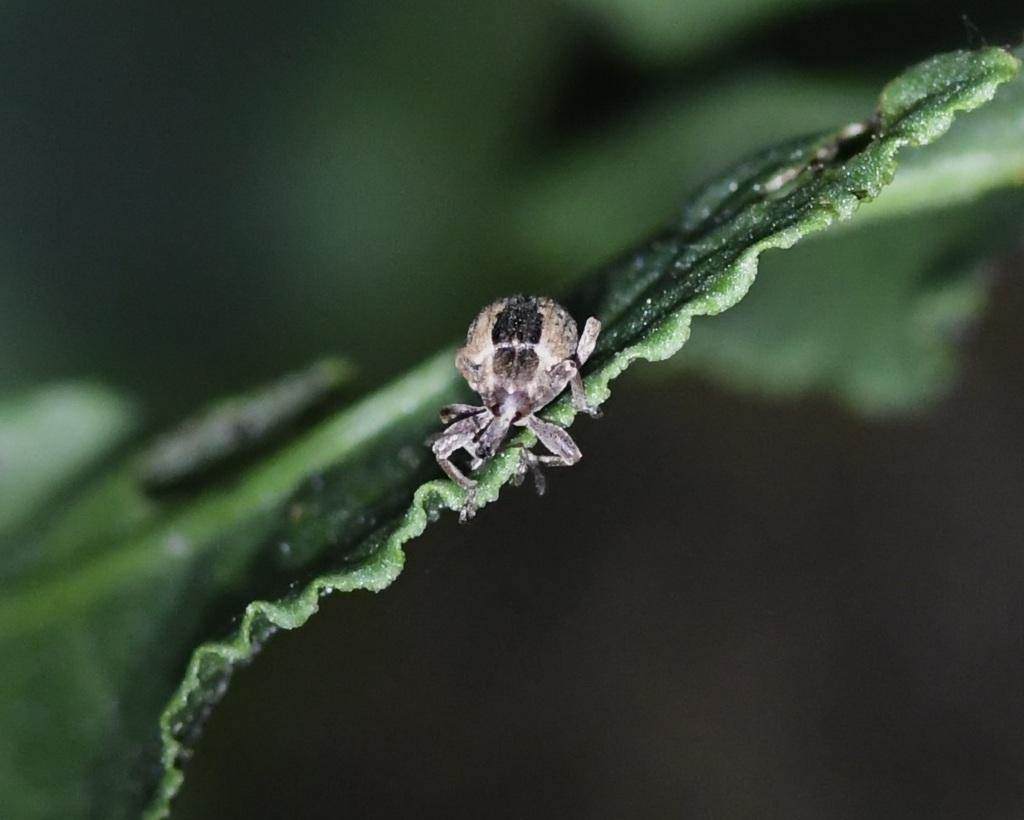weevils: (378, 243, 656, 540)
